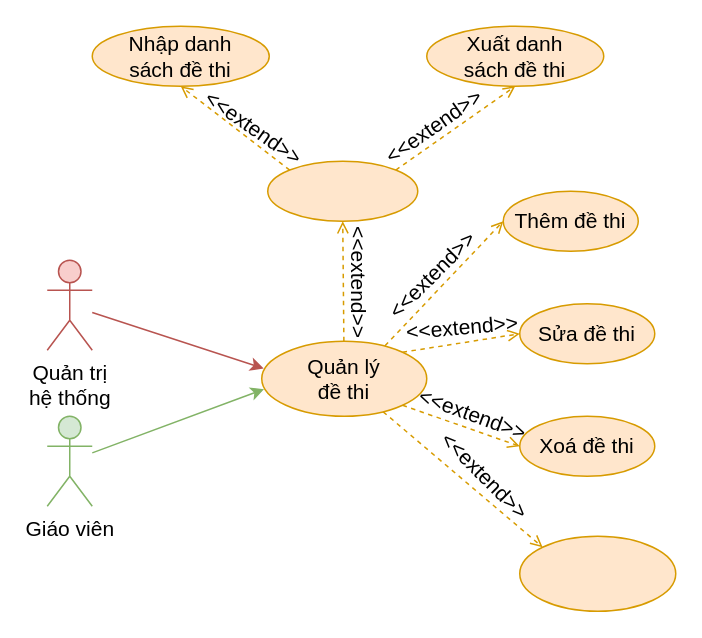
Some shapes in this 702 by 638 pixel diagram are drawn without their labels. Here are the shapes that lost their labels. From the top down, the centre of each, then its label:
the point at 342,190: Nhập/Xuất
the point at 597,573: Tìm kiếm & lọc đề thi
